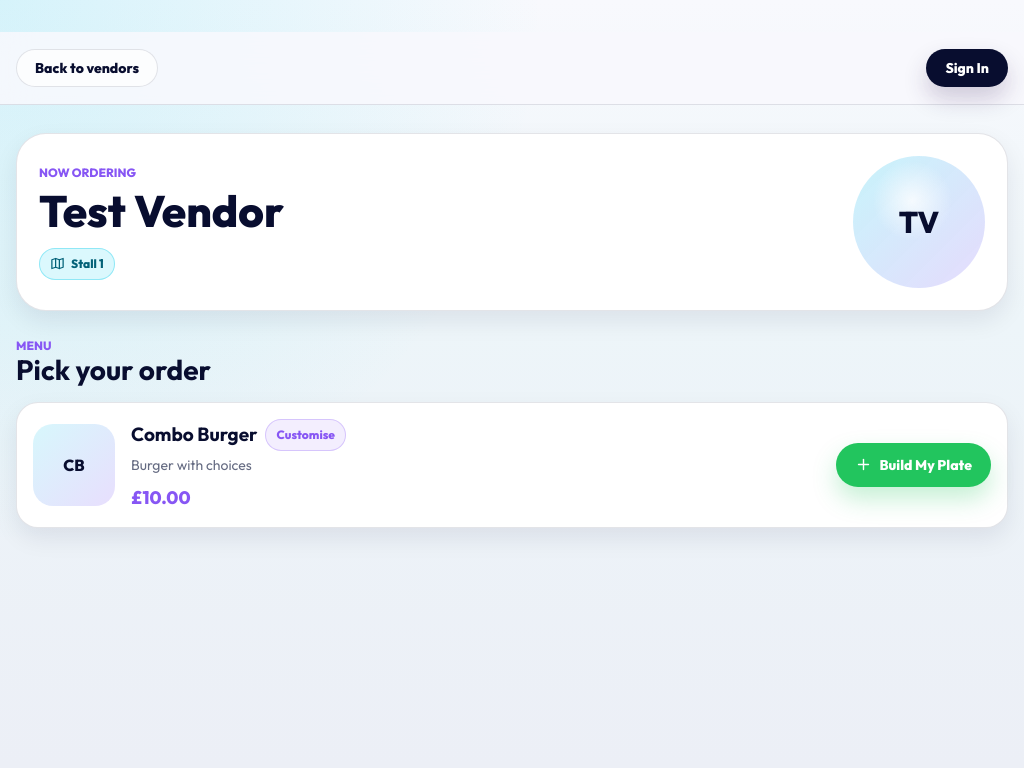
Test: Menu product configuration dialog › uses a plus icon and title-cased Build My Plate copy
The image size is (1024, 768).
Expected: the button with aria-label "Build my plate for Combo Burger" reads "Build My Plate", [836,443,991,487]
Click the button with aria-label "View details for Combo Burger". click: [74, 465]
box: [33,419,820,511]
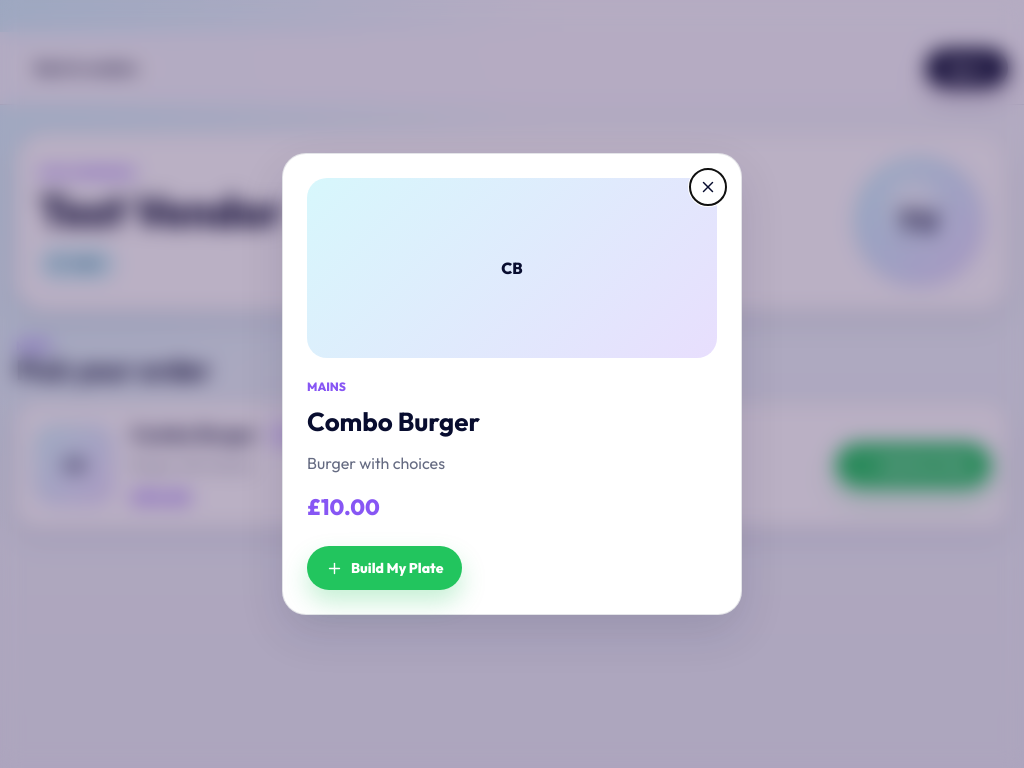
Now the button with aria-label "Build my plate for Combo Burger from details" reads "Build My Plate", box [307,546,462,590]
